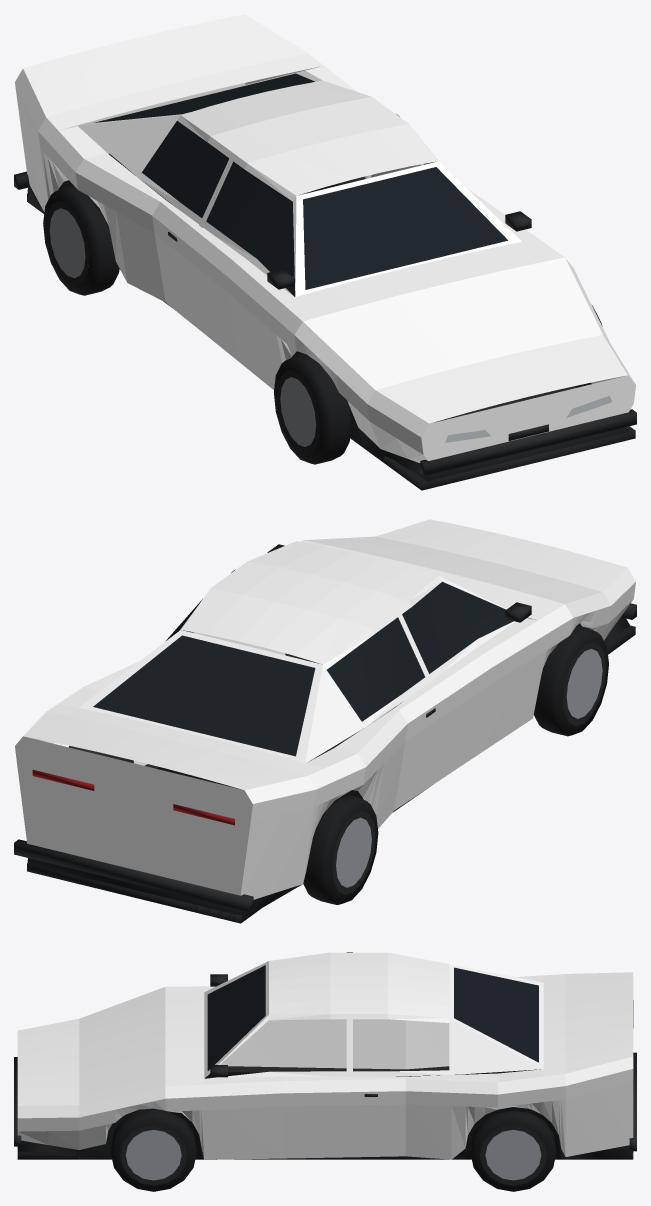
The model's file is bancroft_arraia.glb.
3 views of the same model, one above another, from view 1: azimuth 30°, elevation 25°; view 2: azimuth 150°, elevation 25°; view 3: azimuth 270°, elevation 25° (orthographic). The views are drawn at different scales.
Visible parts, largest first — view 1: Body_Paint, Body_Details, Mount_FrontLeft_Wheel_Details, Mount_RearLeft_Wheel_Details; view 2: Body_Paint, Body_Details, Mount_RearLeft_Wheel_Details, Mount_FrontLeft_Wheel_Details; view 3: Body_Paint, Body_Details, Mount_FrontRight_Wheel_Details, Mount_RearRight_Wheel_Details.
Boxes of the visible parts, x1,y1,x2,y2 form: Body_Paint: (15, 14, 635, 462); Body_Details: (14, 73, 636, 490); Mount_FrontLeft_Wheel_Details: (274, 354, 351, 464); Mount_RearLeft_Wheel_Details: (43, 185, 119, 295); Body_Paint: (15, 519, 635, 899); Body_Details: (14, 544, 636, 923); Mount_RearLeft_Wheel_Details: (303, 795, 378, 904); Mount_FrontLeft_Wheel_Details: (533, 625, 608, 736); Body_Paint: (17, 952, 633, 1159); Body_Details: (14, 965, 636, 1159); Mount_FrontRight_Wheel_Details: (110, 1108, 196, 1191); Mount_RearRight_Wheel_Details: (470, 1110, 556, 1191).
Bounding box in the file's own units: 1.94 × 1.3 × 4.62.
2 materials, 1 textured.
